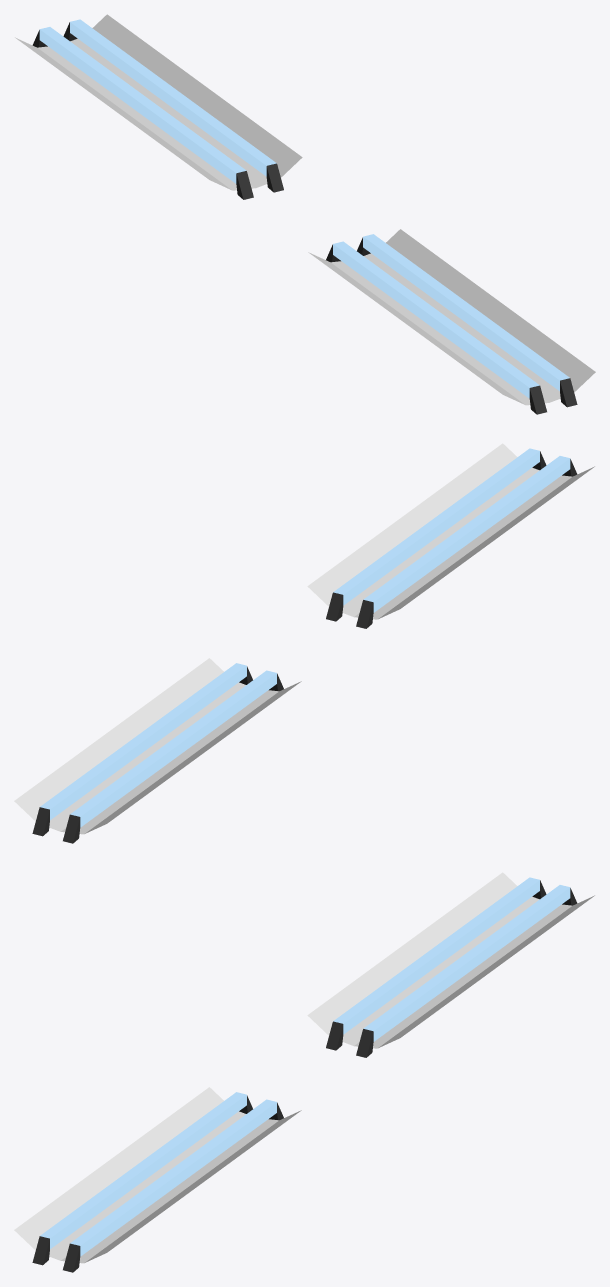
File: lights_01.glb
3 views of the same model, one above another, from view 1: azimuth 30°, elevation 25°; view 2: azimuth 150°, elevation 25°; view 3: azimuth 330°, elevation 25° (orthographic).
Parts seen in each view (by area): view 1: lights_01; view 2: lights_01; view 3: lights_01.
Part boxes in pixels (x1=…): lights_01: x1=15, y1=14, x2=595, y2=414; lights_01: x1=14, y1=443, x2=594, y2=843; lights_01: x1=14, y1=872, x2=594, y2=1272.
Bounding box in the file's own units: 0.5244 × 0.1157 × 4.92.
